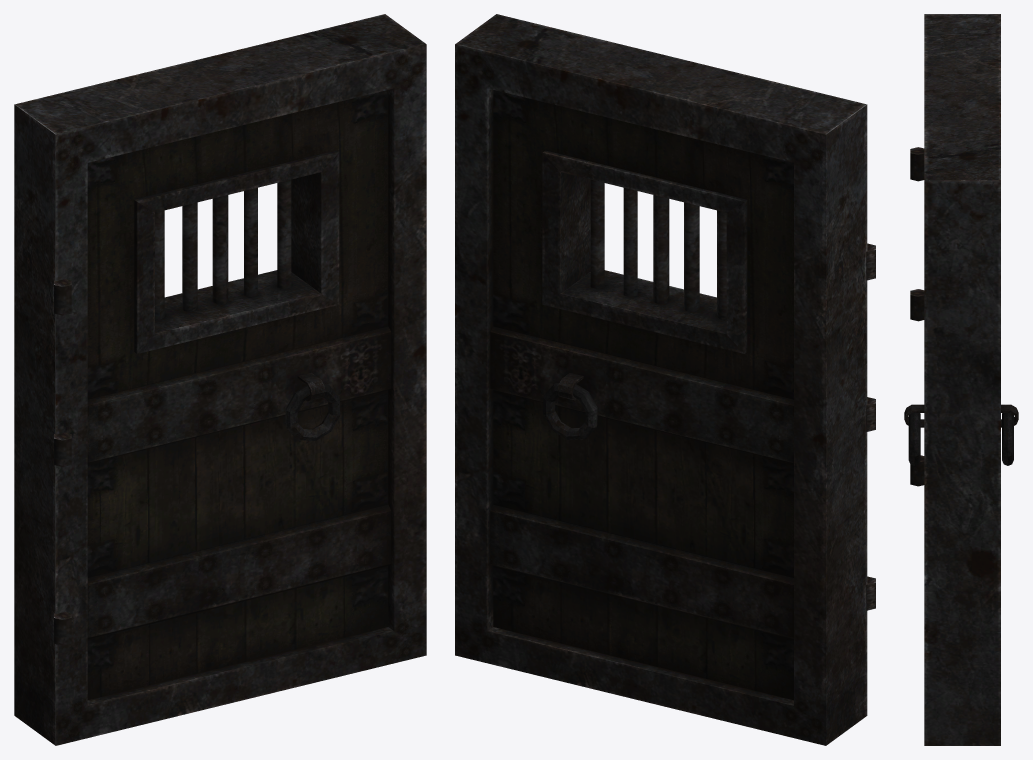
Rendered from prison_unhinged.dae.
3 views of the same model, side by side, from view 1: azimuth 30°, elevation 25°; view 2: azimuth 150°, elevation 25°; view 3: azimuth 270°, elevation 25° (orthographic). The views are drawn at different scales.
Parts seen in each view (by area): view 1: door; view 2: door; view 3: door.
Part boxes in pixels (x1,y1,x2,y2): door: (14, 14, 426, 745); door: (455, 14, 875, 745); door: (904, 14, 1018, 745).
Size of the model in its own units: 1.77 by 2.75 by 0.5057.
